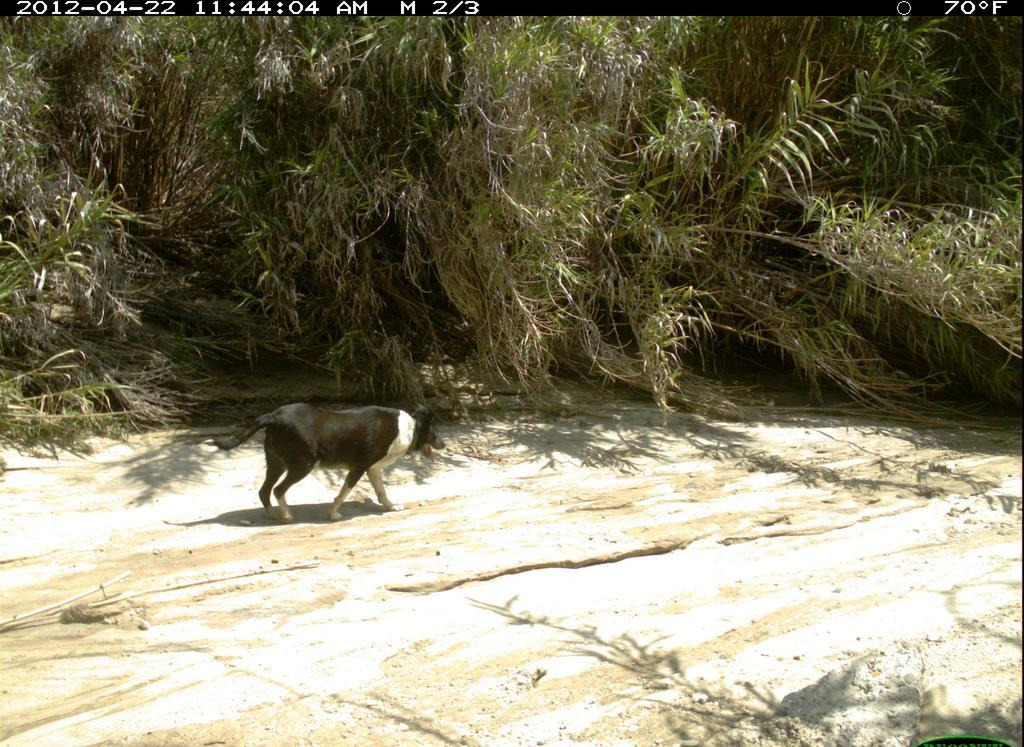dog: (209, 399, 450, 529)
